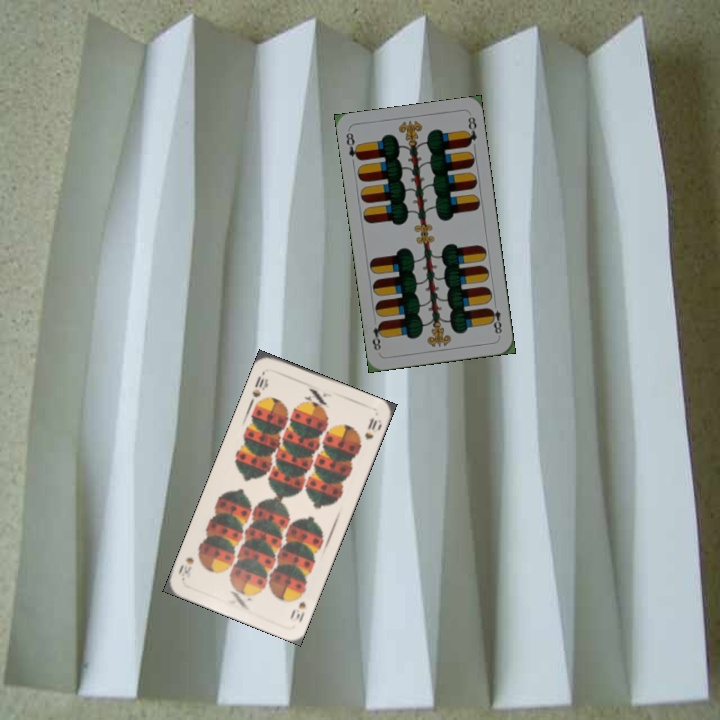E8: (485, 298, 504, 339), (342, 128, 363, 163)
S10: (286, 587, 308, 626), (248, 367, 271, 400)
